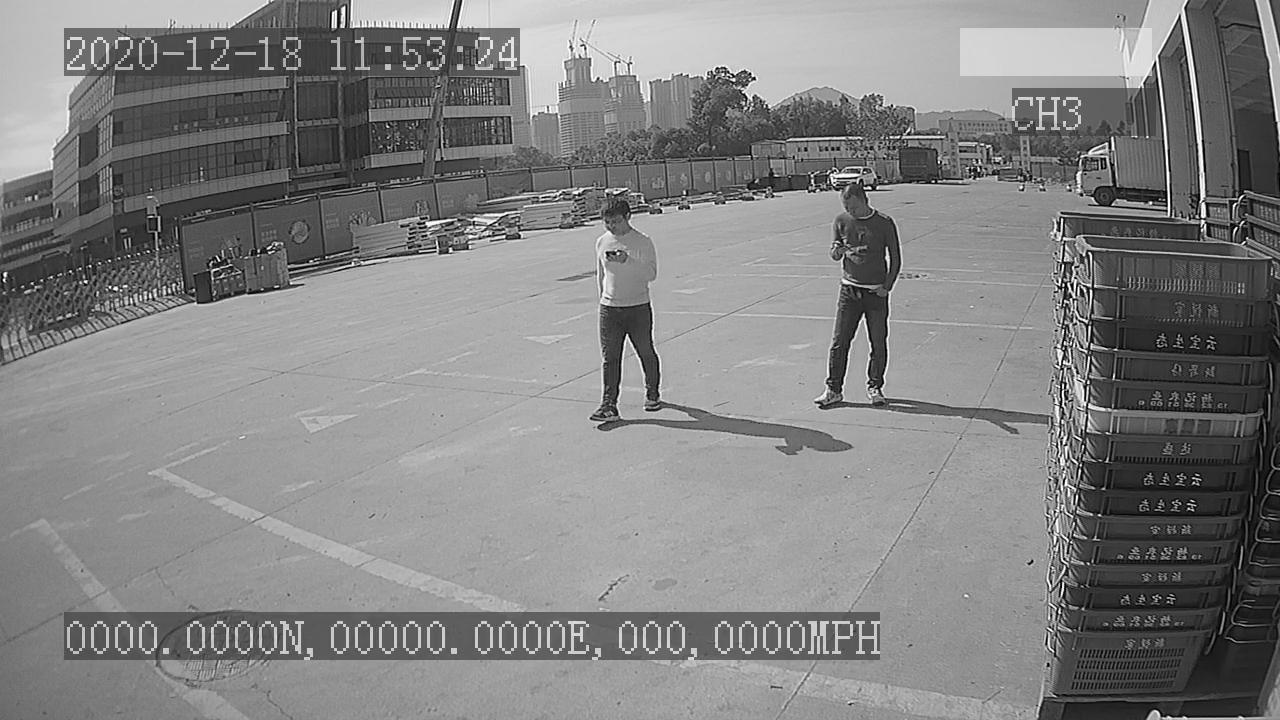person: (808, 174, 906, 411), (579, 192, 672, 433)
